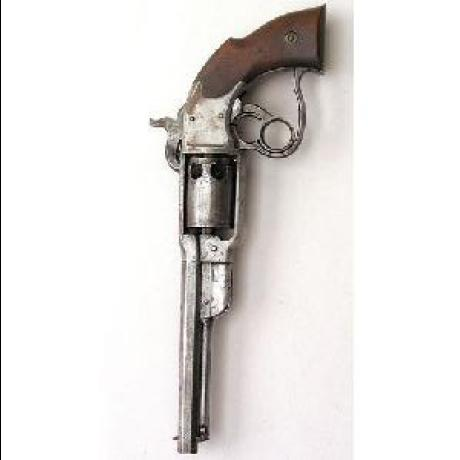weapon: (141, 6, 321, 460)
